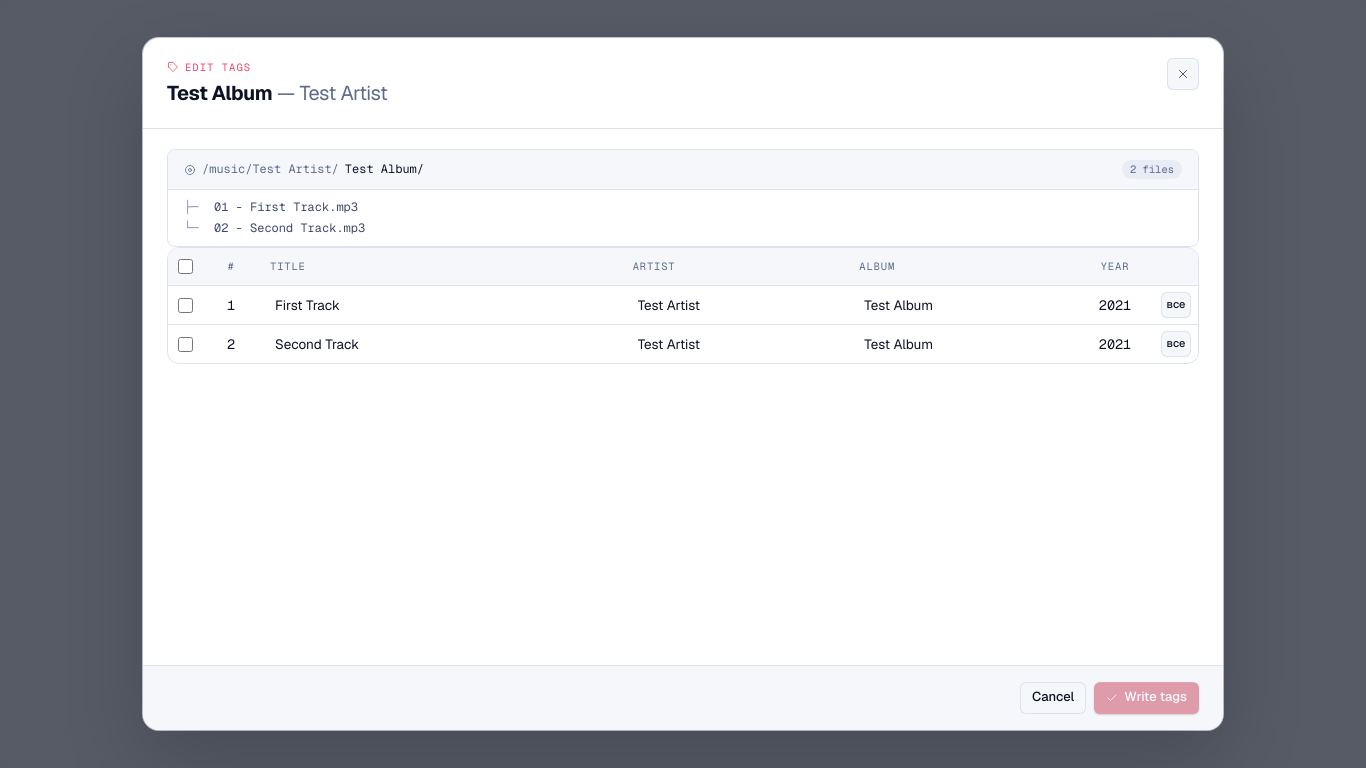
Test: TagEditorModal › shows error flash when POST fails
The image size is (1366, 768).
Replace the text in the 2nd field showing "First Track" with "Changed" at (441, 305), box [266,290,617,320]
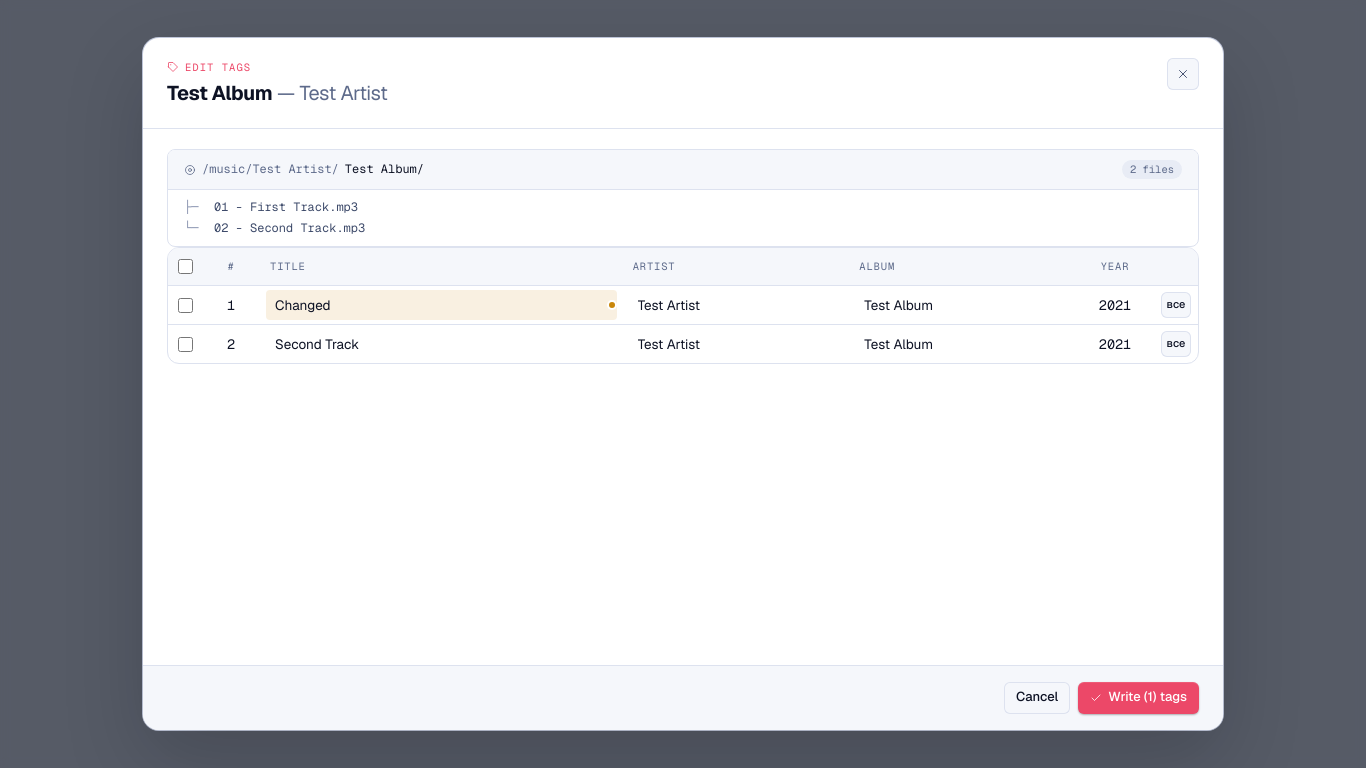
Click the button "Write (1) tags" at (1139, 698), box [1078,682,1199,714]
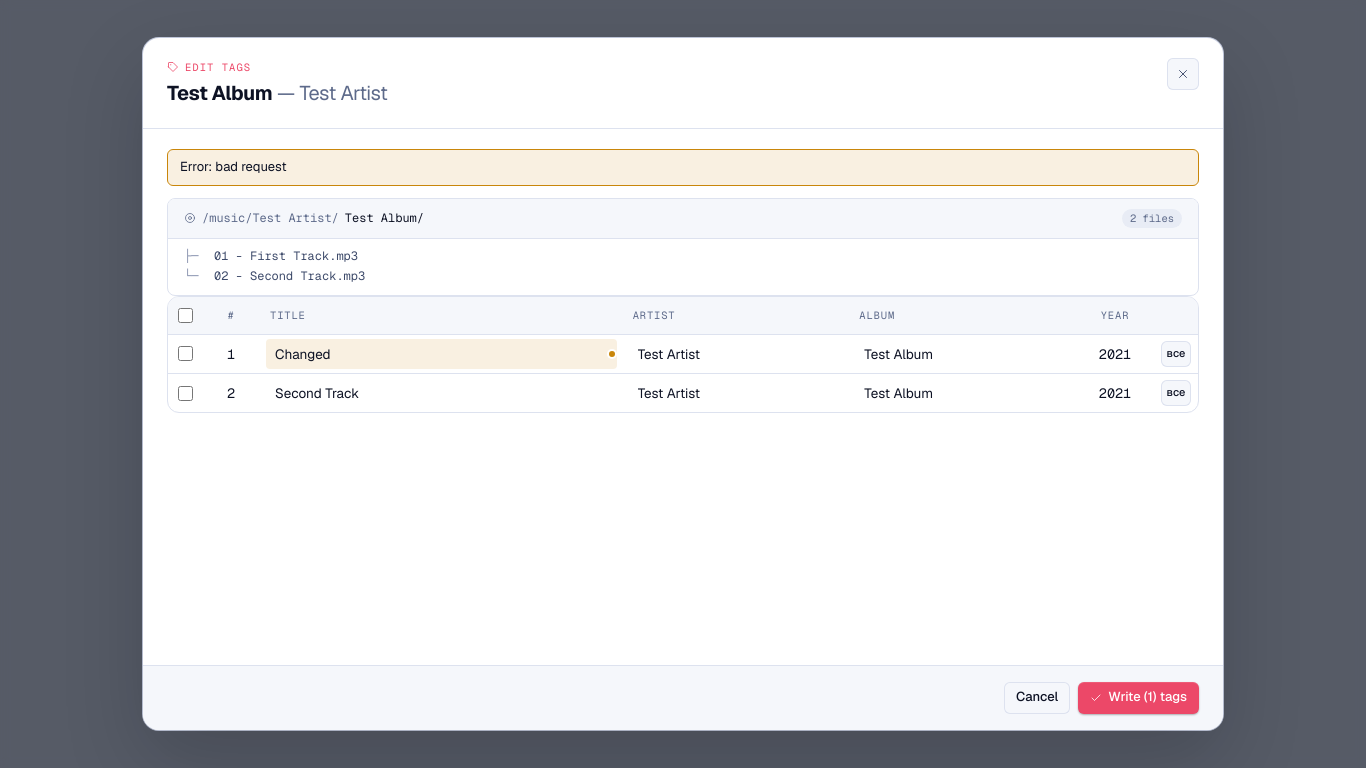
Result: the text "Error: bad request" is shown at [167,149,1199,186]
